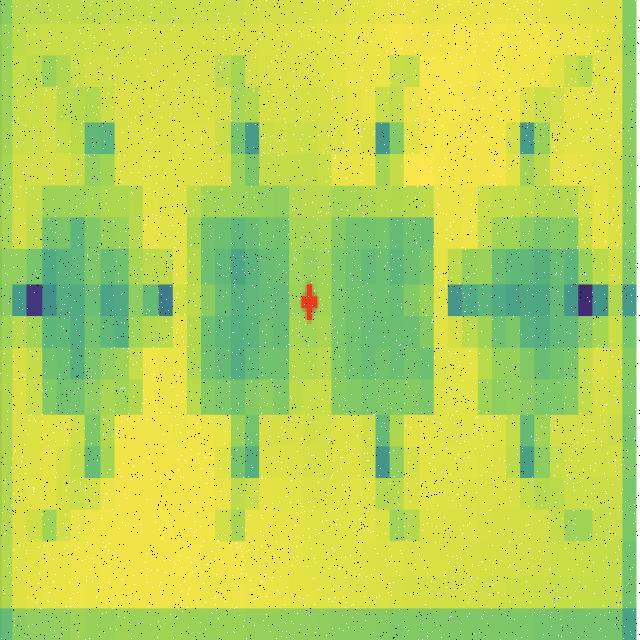Concrete: (34, 164, 152, 439)
Glass: (466, 167, 586, 429)
Metal: (186, 170, 296, 427)
Wood: (322, 157, 438, 424)
